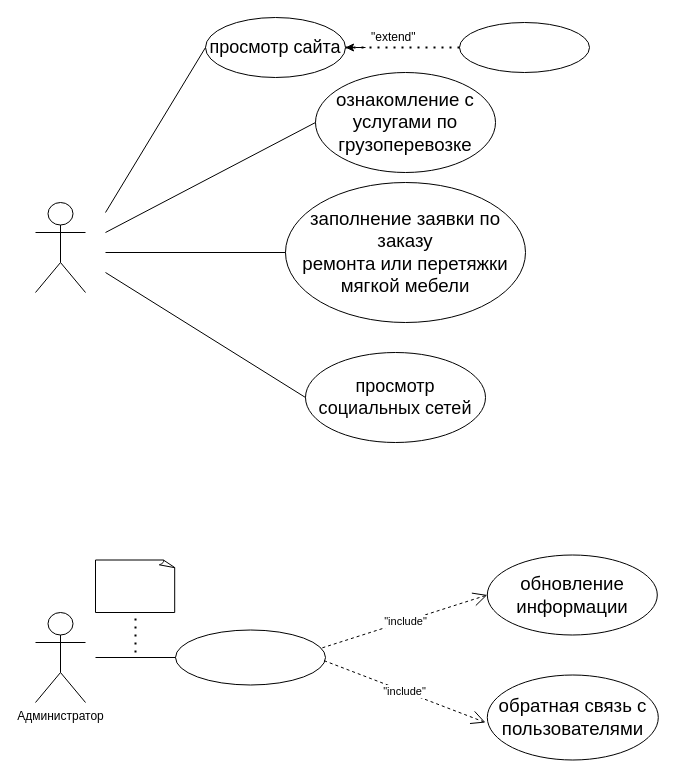
Image size: 676x778. Some labels were removed from this diagram. Here are the shapes that lost their labels. From the top down, the box of each, then its label:
(458, 22, 590, 72): выбор вкладки
(34, 202, 86, 292): Гость
(94, 559, 176, 612): доступно после авторизации
(174, 629, 326, 685): возможность админа
